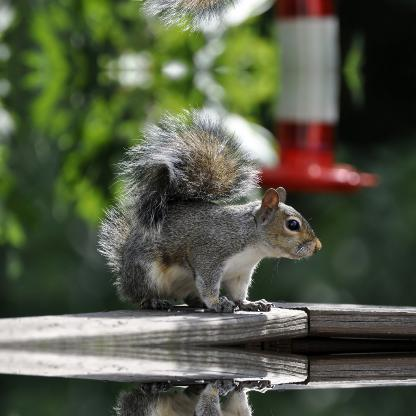Squirrel: (93, 98, 322, 314)
